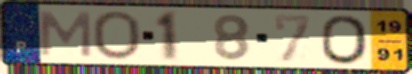1: (154, 9, 183, 64)
7: (273, 13, 313, 64)
8: (212, 13, 253, 62)
M: (37, 10, 94, 59)
O: (90, 9, 143, 61), (319, 14, 370, 66)
